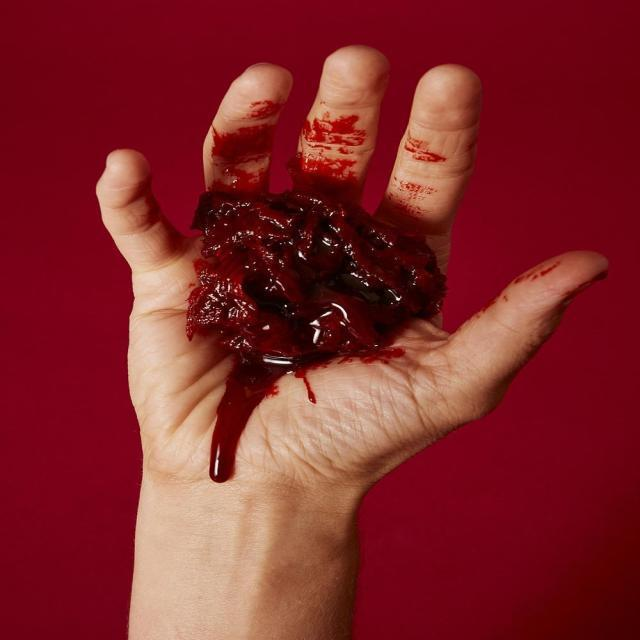flood: (220, 201, 436, 369)
